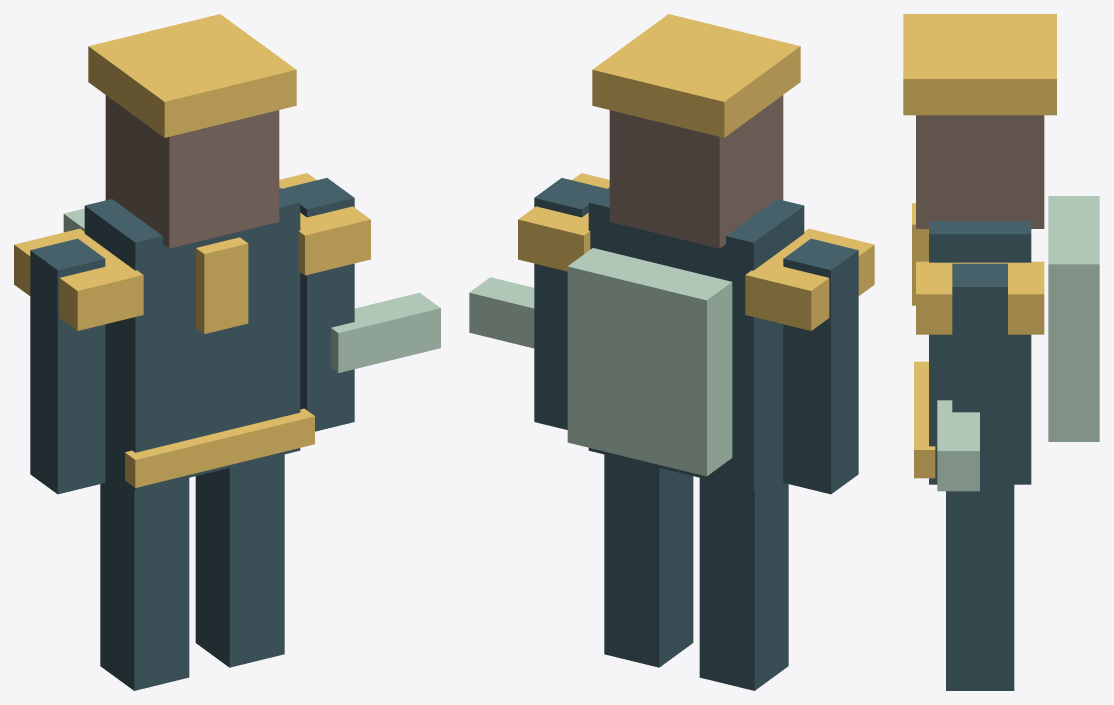
The model's file is 15_dax_deepwell_archivist_at.glb.
3 renders of one model, left to right at view 1: azimuth 30°, elevation 25°; view 2: azimuth 150°, elevation 25°; view 3: azimuth 270°, elevation 25°, orthographic.
Visible parts, largest first — view 1: Dax Deepwell, Archivist at; view 2: Dax Deepwell, Archivist at; view 3: Dax Deepwell, Archivist at.
Part boxes in pixels (<box>): Dax Deepwell, Archivist at: <box>14,14,440,690</box>; Dax Deepwell, Archivist at: <box>469,14,874,690</box>; Dax Deepwell, Archivist at: <box>903,14,1099,690</box>.
Size of the model in its own units: 1.11 by 1.7 by 0.4978.
